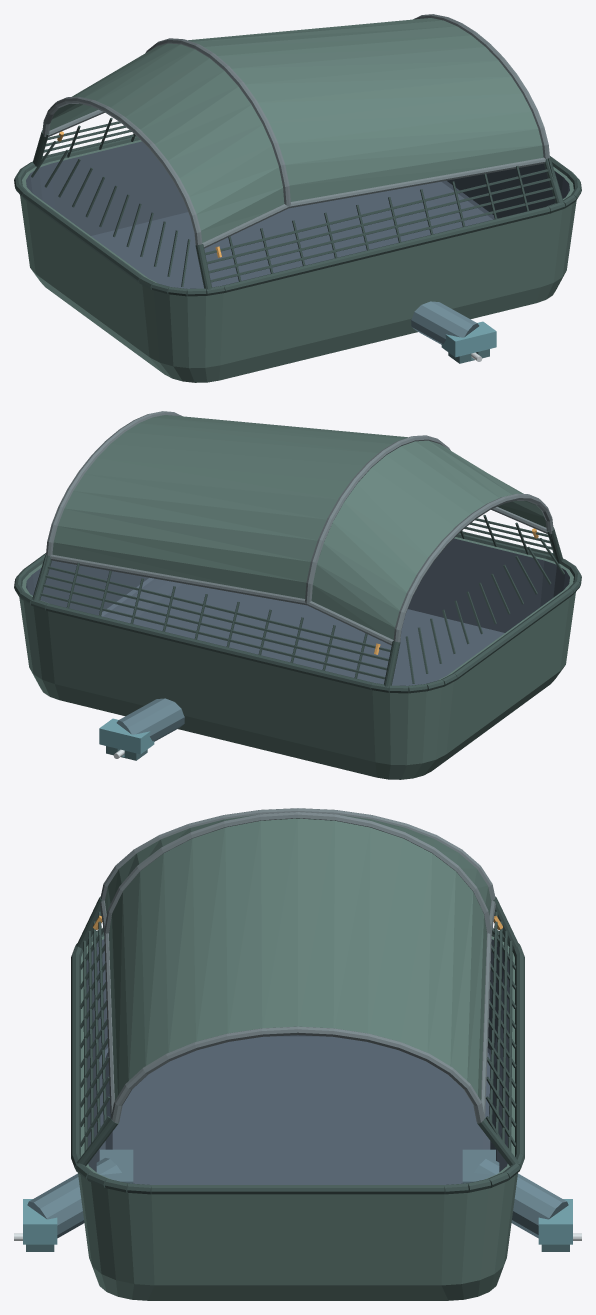
3 views of the same model, one above another, from view 1: azimuth 30°, elevation 25°; view 2: azimuth 150°, elevation 25°; view 3: azimuth 270°, elevation 25° (orthographic). The views are drawn at different scales.
Parts seen in each view (by area): view 1: S03_Cabin, S03_Cabin_Mount_M; view 2: S03_Cabin, S03_Cabin_Mount_M; view 3: S03_Cabin, S03_Cabin_Mount_M.
Part boxes in pixels (x1,y1,x2,y2): S03_Cabin: (14,14,581,382); S03_Cabin_Mount_M: (411,301,496,363); S03_Cabin: (14,411,581,779); S03_Cabin_Mount_M: (99,698,184,760); S03_Cabin: (71,808,524,1300); S03_Cabin_Mount_M: (14,1149,581,1251).
Bounding box in the file's own units: 0.63 × 0.3675 × 0.564.
